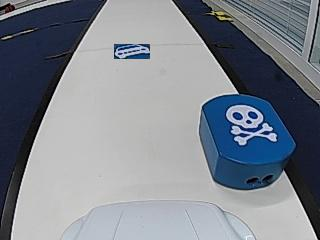danger: (228, 106, 274, 145)
